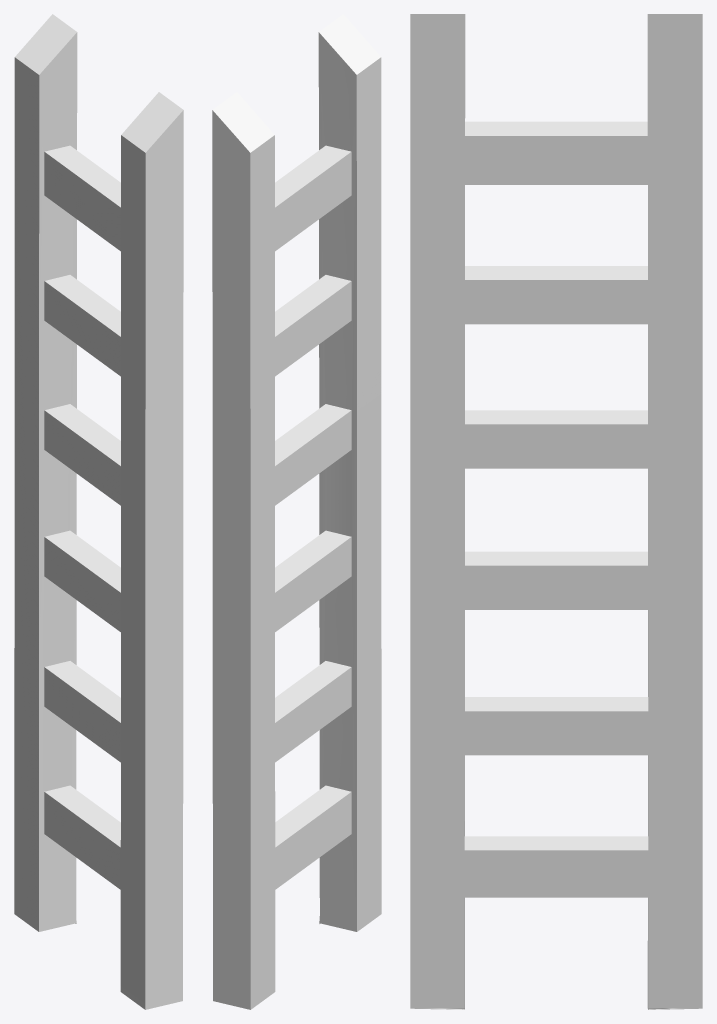
File: Pfb_Stairs.fbx
3 views of the same model, side by side, from view 1: azimuth 30°, elevation 25°; view 2: azimuth 150°, elevation 25°; view 3: azimuth 270°, elevation 25° (orthographic). The views are drawn at different scales.
Visible parts, largest first — view 1: OutDoor_NoColor; view 2: OutDoor_NoColor; view 3: OutDoor_NoColor.
Part boxes in pixels (x1=…): OutDoor_NoColor: x1=14, y1=14, x2=183, y2=1009; OutDoor_NoColor: x1=212, y1=14, x2=381, y2=1009; OutDoor_NoColor: x1=410, y1=14, x2=702, y2=1009.
Bounding box in the file's own units: 0.1418 × 3.16 × 0.8412.
1 material, 1 textured.
